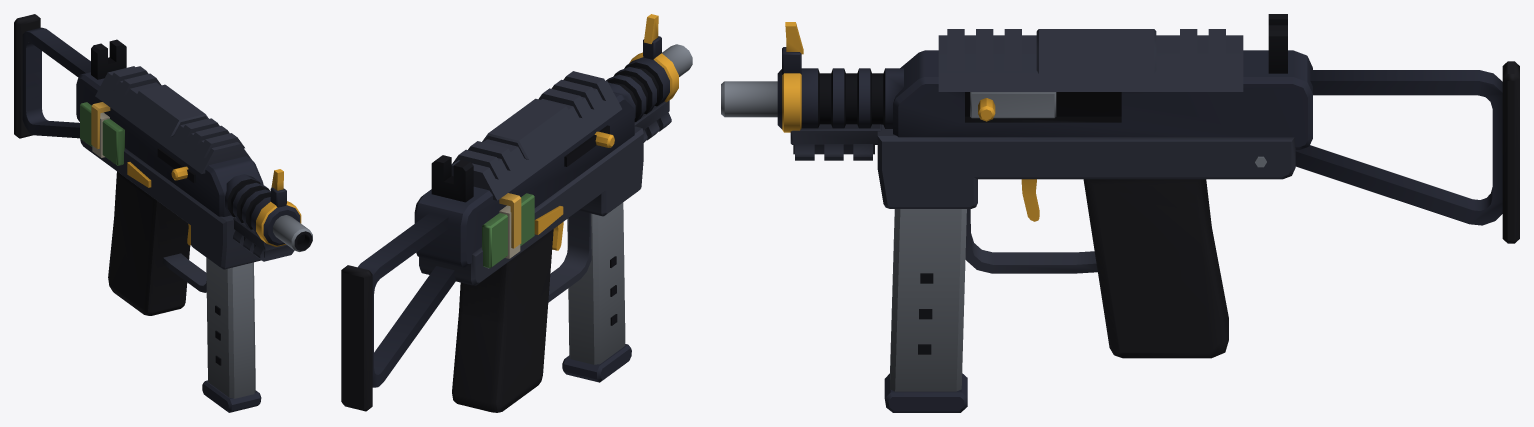
Rendered from cash_flow.glb.
The picture shows the model from 3 angles, left to right: view 1: azimuth 30°, elevation 25°; view 2: azimuth 150°, elevation 25°; view 3: azimuth 270°, elevation 25°; orthographic projection. The views are drawn at different scales.
Visible parts, largest first — view 1: frame, mag; view 2: frame, mag; view 3: frame, mag, bolt.
Boxes of the visible parts, x1,y1,x2,y2 form: frame: [14, 14, 312, 315]; mag: [202, 257, 261, 412]; frame: [341, 14, 692, 412]; mag: [562, 202, 631, 382]; frame: [721, 14, 1519, 358]; mag: [884, 209, 967, 412]; bolt: [970, 92, 1056, 121].
Bounding box in the file's own units: 0.263 × 0.965 × 1.83.
Materials: 1 (1 with a texture image).
